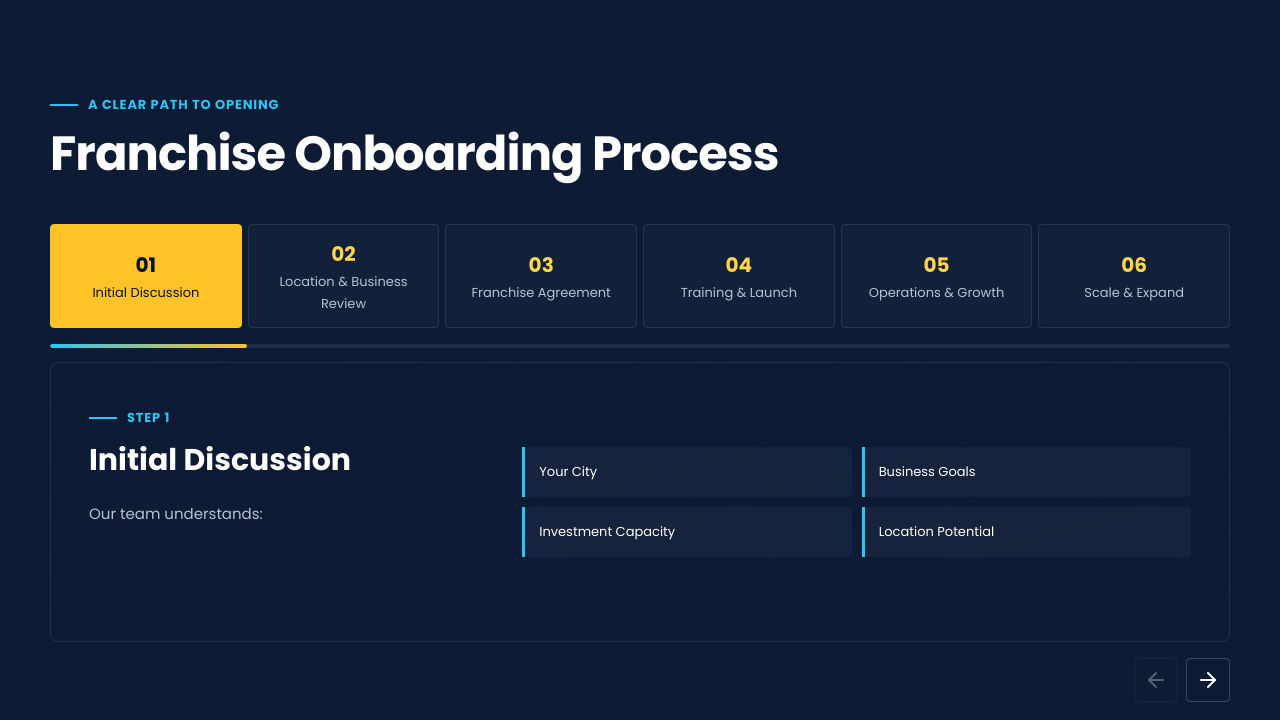
it: interactive content › advances onboarding with the next control
Click the button named "Next step" at {"x": 1208, "y": 680}, box [1186,658,1230,702]
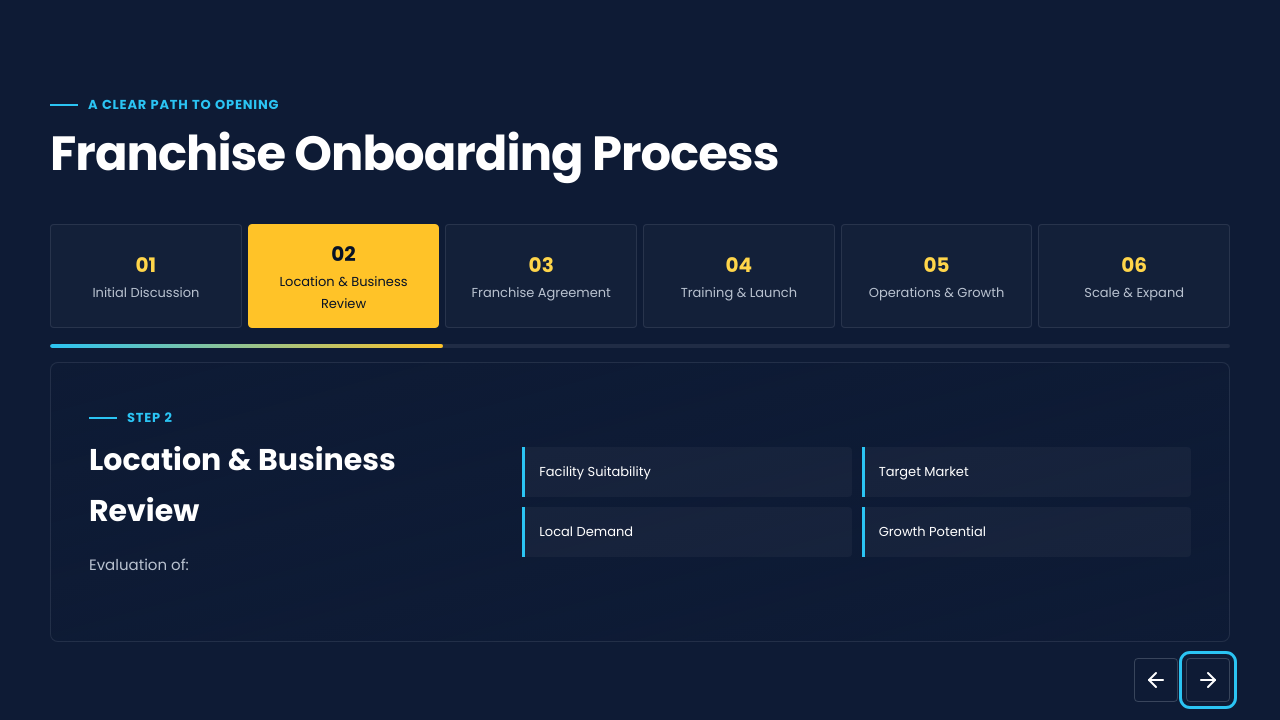
Now the text "Evaluation of:" is shown, box [89,554,189,575]
